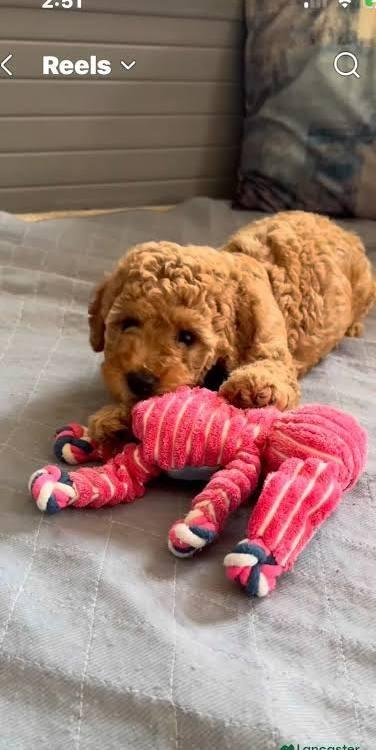puppy-dog: (83, 211, 376, 451)
